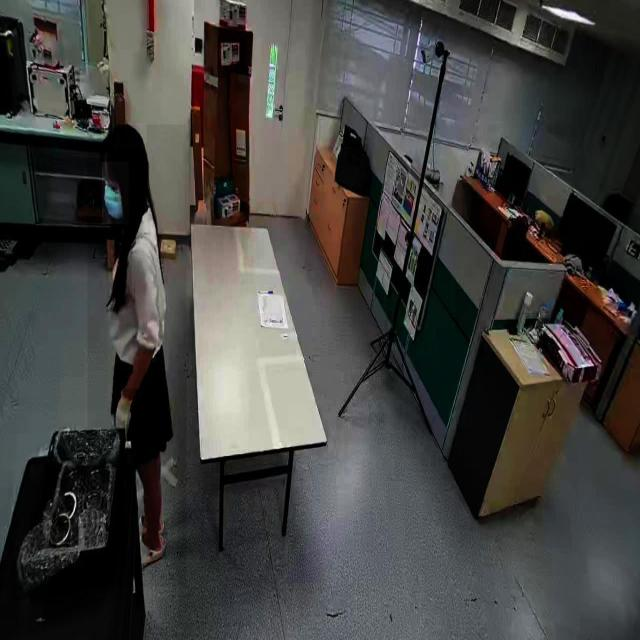face_mask: (102, 162, 128, 224)
hand_glove: (113, 388, 139, 441)
head_nohelmet: (102, 124, 147, 159)
person: (87, 125, 187, 588)
